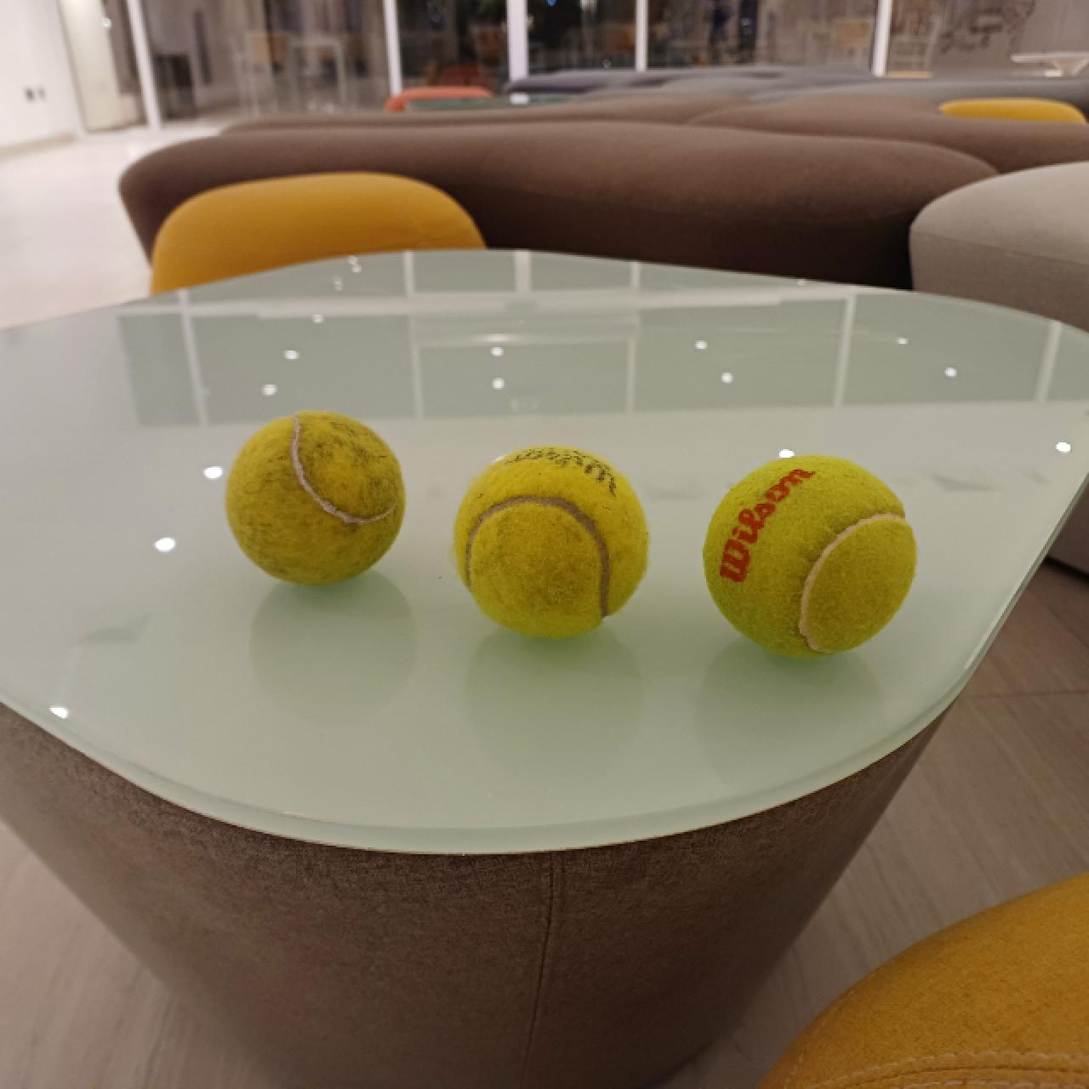tennis-ball: (699, 452, 922, 662), (452, 441, 653, 637), (223, 407, 405, 588)
